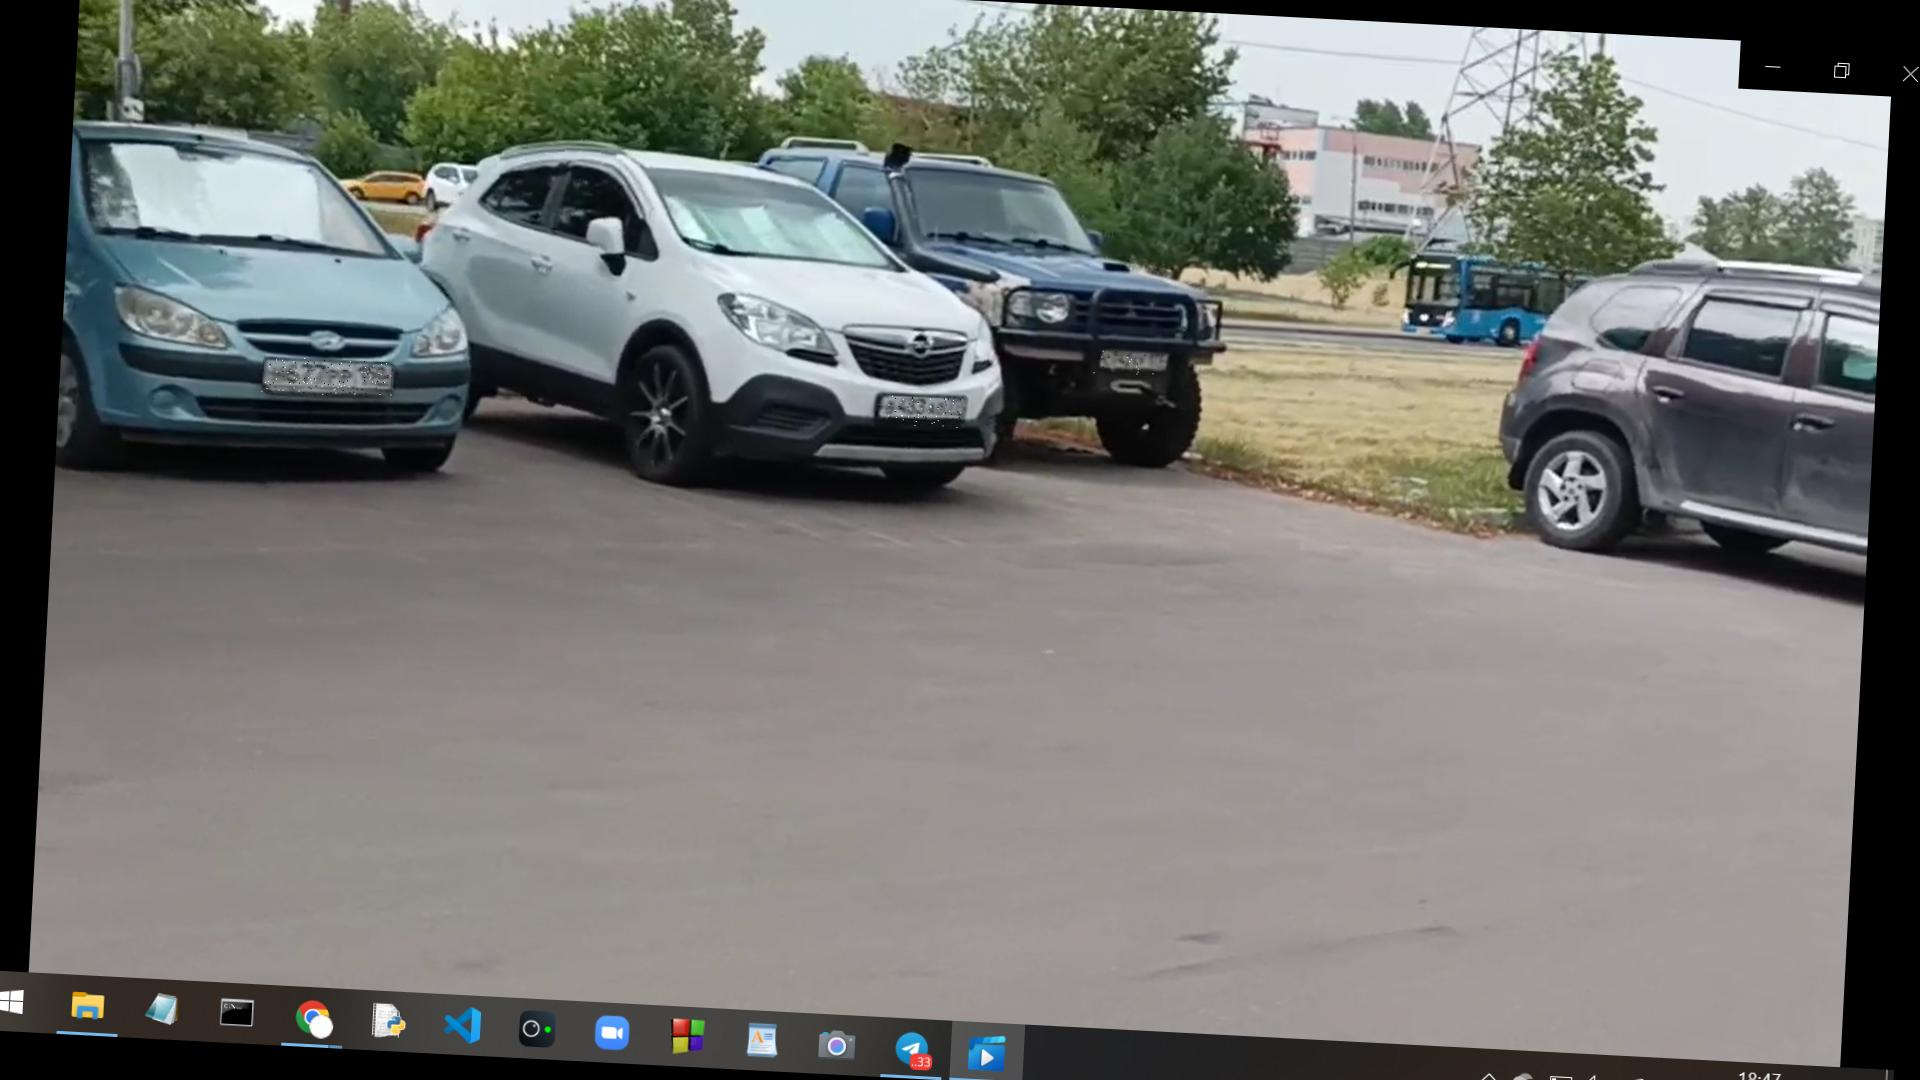plate: (263, 357, 395, 400), (888, 397, 962, 430), (1093, 350, 1166, 378)
